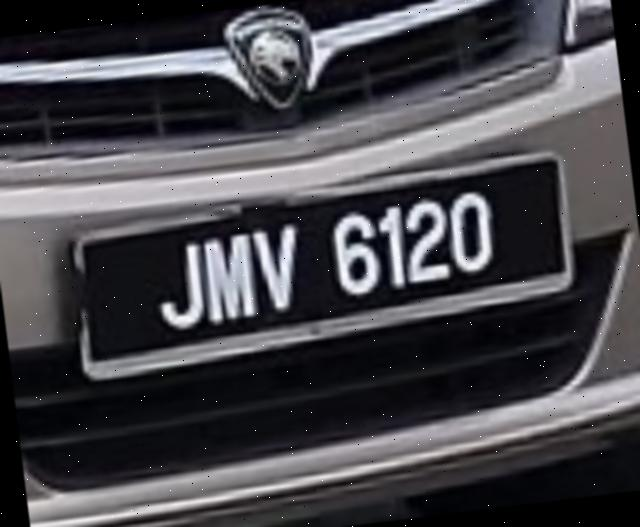License_Plate: (67, 149, 586, 385)
